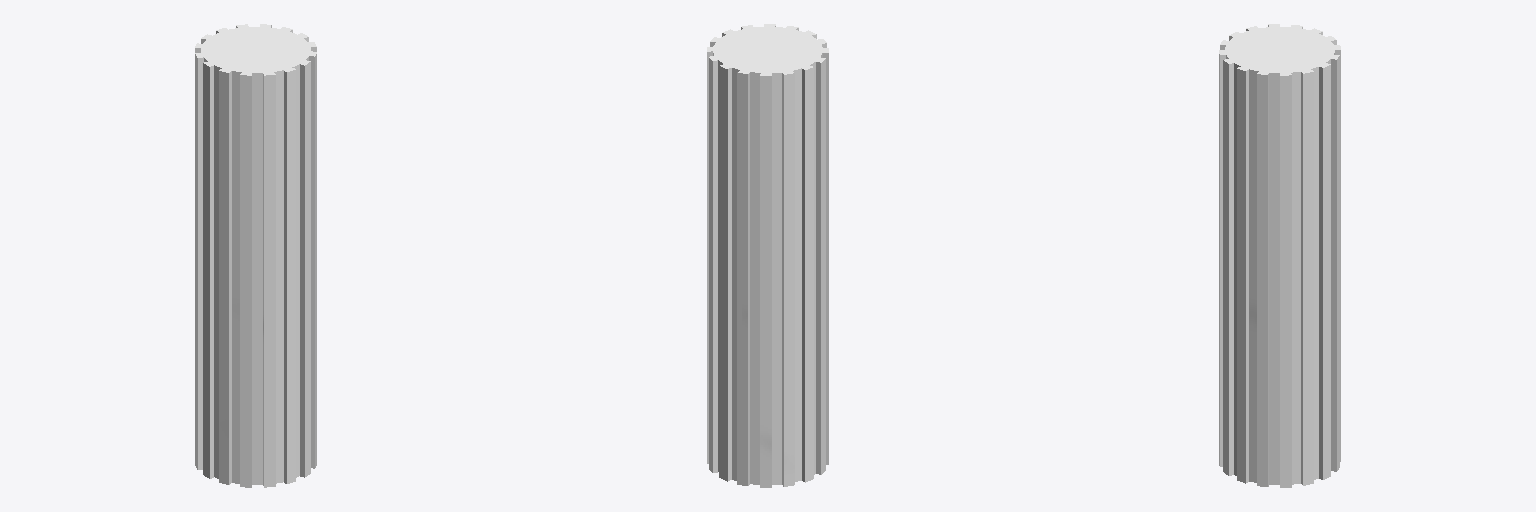
The picture shows the model from 3 angles: view 1: azimuth 30°, elevation 25°; view 2: azimuth 150°, elevation 25°; view 3: azimuth 270°, elevation 25°; orthographic projection.
Visible parts, largest first — view 1: Cube.001; view 2: Cube.001; view 3: Cube.001.
Boxes of the visible parts, box(x1,y1,x2,y2) form: Cube.001: box(195, 24, 316, 487); Cube.001: box(707, 24, 828, 487); Cube.001: box(1219, 24, 1340, 487).
Size of the model in its own units: 1.62 by 6 by 1.62.
1 materials, 1 textured.